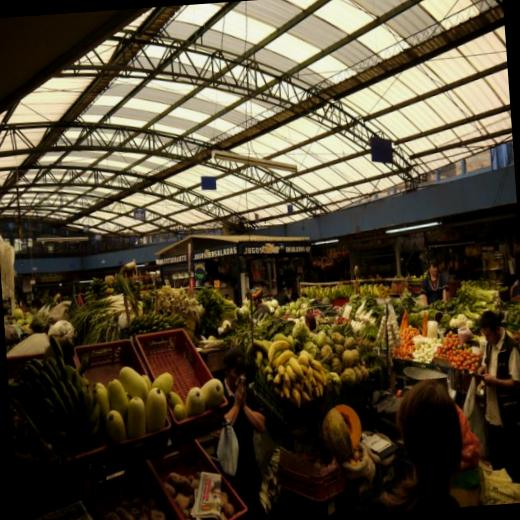Banana: (12, 343, 116, 478), (244, 330, 330, 412), (300, 281, 381, 303), (268, 338, 290, 360)
